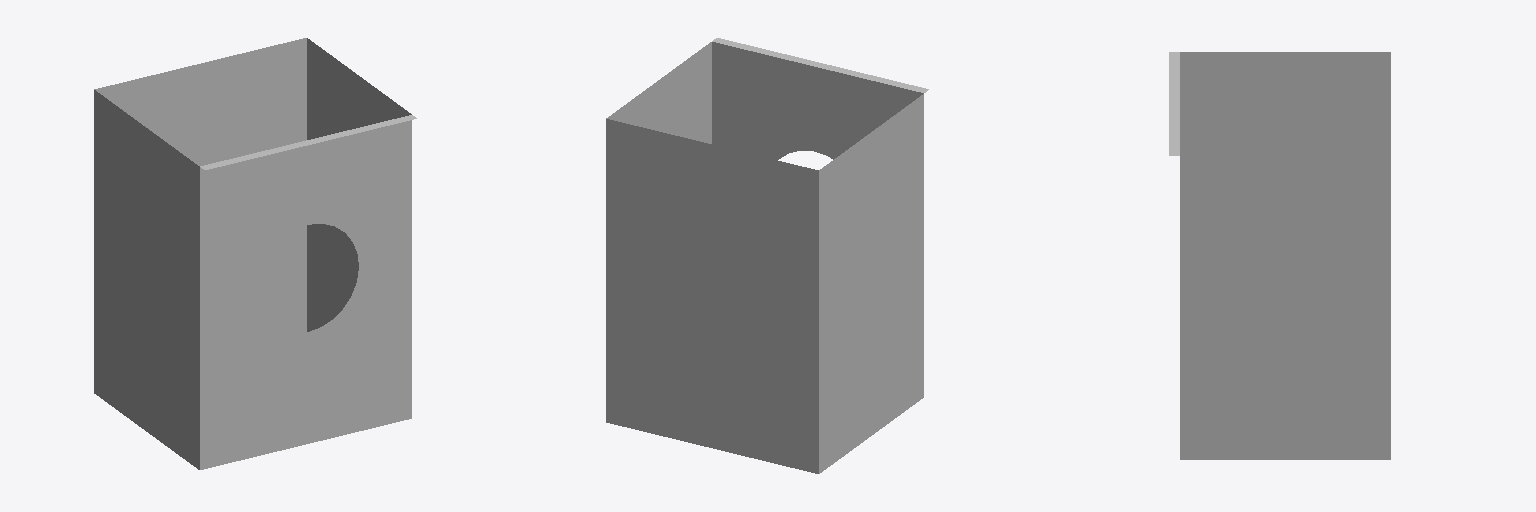
File: original-28.obj
3 renders of one model, left to right at view 1: azimuth 30°, elevation 25°; view 2: azimuth 150°, elevation 25°; view 3: azimuth 270°, elevation 25°, orthographic.
Parts seen in each view (by area): view 1: #ID132; view 2: #ID132; view 3: #ID132.
Part boxes in pixels (bbox=[...]): #ID132: bbox=[94, 38, 416, 469]; #ID132: bbox=[606, 38, 928, 473]; #ID132: bbox=[1169, 52, 1390, 459].
Bounding box in the file's own units: 0.961 × 1.31 × 0.8666.